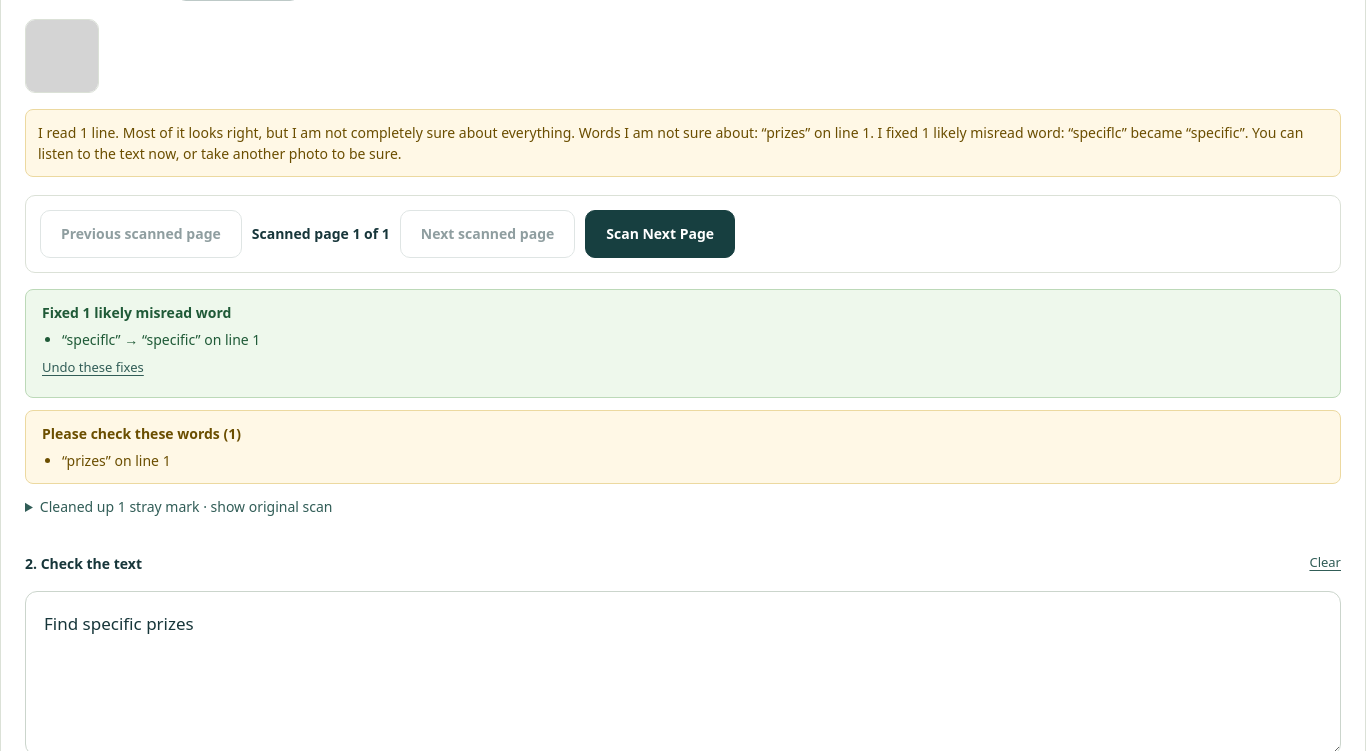
Test case: CameraPanel corrections › lists fixes, flagged words and the original scan, and can undo the fixes
Earlier steps of the test are not shown.
(page scrolled)
Expected: the text "Fixed 1 likely misread word" is shown, [42,303,232,322]
Expected: the list item "“speciflc” → “specific” on line 1" is shown, [62,330,260,349]
Click the button "Undo these fixes" at (93,368), box [42,350,144,386]
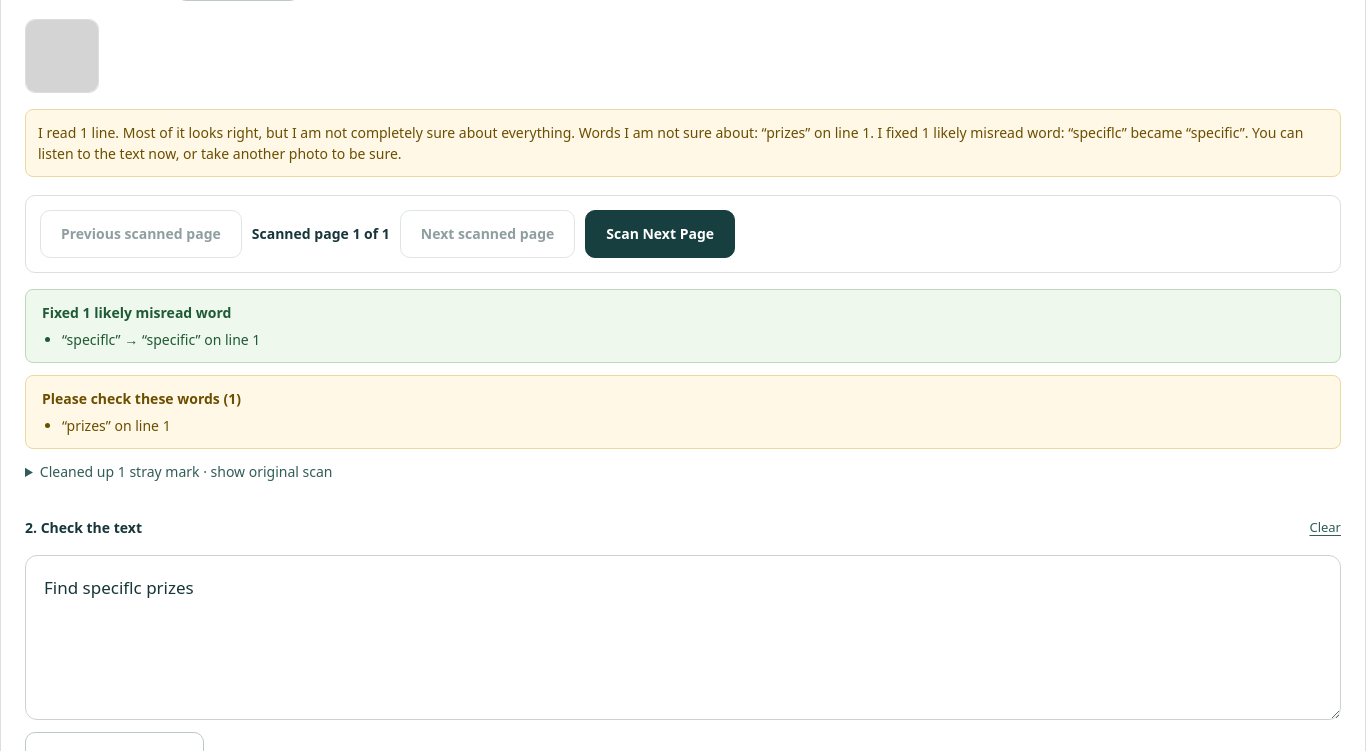
Now the text box showing "Find speciflc prizes" is shown, box [25,556,1341,720]
Now the button "Undo these fixes" is gone
